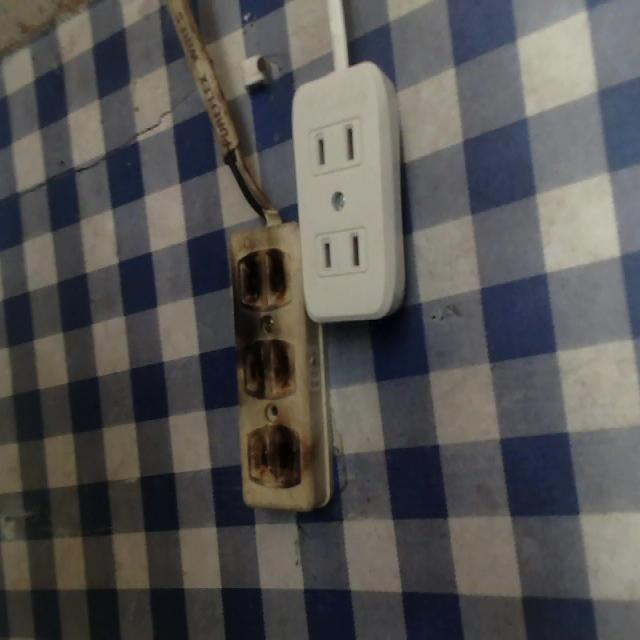-: (243, 417, 307, 503), (236, 332, 307, 409), (233, 243, 290, 309)
